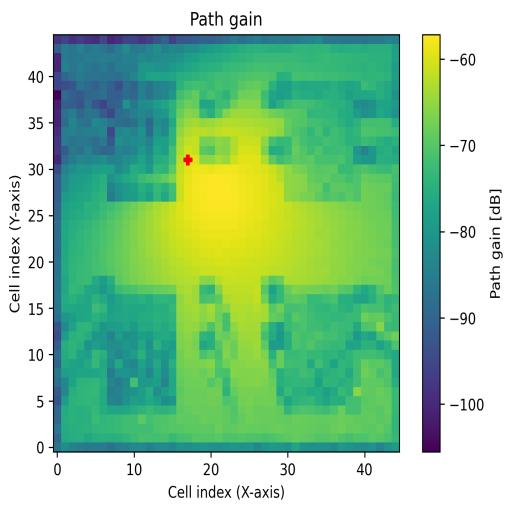Concrete: (286, 82, 361, 202)
Glass: (109, 81, 176, 202)
Metal: (284, 294, 361, 414)
Wood: (107, 294, 177, 407)
